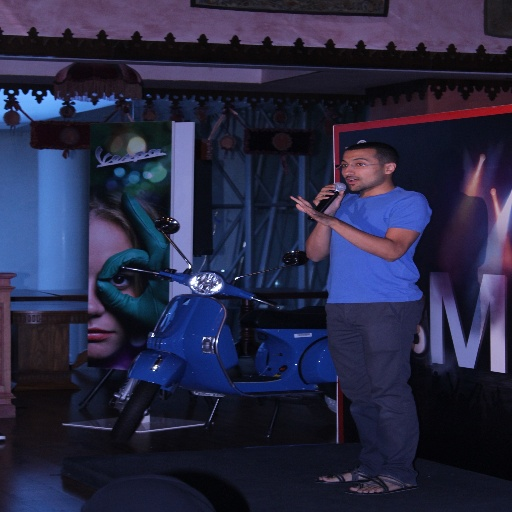hand: (91, 194, 172, 345), (299, 195, 353, 238), (310, 183, 345, 217)
